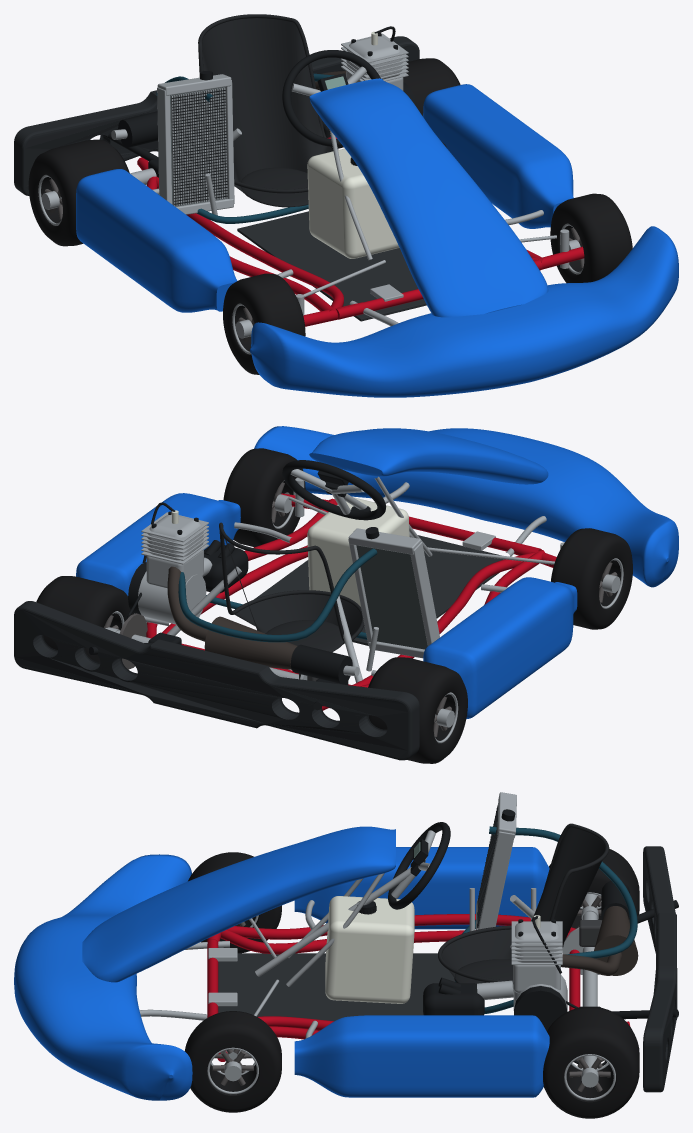
Rendered from kartwerkz-blue-red.glb.
3 views of the same model, one above another, from view 1: azimuth 30°, elevation 25°; view 2: azimuth 150°, elevation 25°; view 3: azimuth 270°, elevation 25° (orthographic).
Visible parts, largest first — view 1: front-bumper, nassau-panel, slick-tyre (×4), sidepod-left, seat-shell, sidepod-right, floor-tray, fuel-tank, rear-bumper, radiator-side-tank (×2), chassis-main--1, seat-base (+10 smaller); view 2: rear-bumper, front-bumper, slick-tyre (×4), sidepod-left, nassau-panel, sidepod-right, radiator-core, fuel-tank, floor-tray, seat-shell, expansion-chamber, coolant-hose-upper (+21 smaller); view 3: front-bumper, sidepod-right, nassau-panel, slick-tyre (×4), floor-tray, fuel-tank, sidepod-left, rear-bumper, seat-shell, chassis-outer--1, airbox, radiator-side-tank (+20 smaller).
Part boxes in pixels (left/top/right/bottom): front-bumper: left=250, top=226, right=678, bottom=397; nassau-panel: left=309, top=78, right=548, bottom=317; slick-tyre (×4): left=28, top=58, right=632, bottom=374; sidepod-left: left=76, top=169, right=237, bottom=312; seat-shell: left=202, top=18, right=333, bottom=194; sidepod-right: left=423, top=84, right=573, bottom=228; floor-tray: left=237, top=211, right=426, bottom=321; fuel-tank: left=307, top=148, right=399, bottom=258; rear-bumper: left=14, top=36, right=419, bottom=195; radiator-side-tank (×2): left=157, top=80, right=234, bottom=203; chassis-main--1: left=137, top=157, right=343, bottom=315; seat-base: left=241, top=167, right=308, bottom=207; rear-bumper: left=14, top=601, right=419, bottom=760; front-bumper: left=254, top=426, right=678, bottom=587; slick-tyre (×4): left=36, top=448, right=632, bottom=763; sidepod-left: left=423, top=577, right=577, bottom=718; nassau-panel: left=309, top=428, right=548, bottom=484; sidepod-right: left=76, top=493, right=240, bottom=595; radiator-core: left=356, top=545, right=427, bottom=649; fuel-tank: left=307, top=497, right=409, bottom=606; floor-tray: left=254, top=535, right=504, bottom=645; seat-shell: left=225, top=539, right=361, bottom=646; expansion-chamber: left=204, top=616, right=297, bottom=669; coolant-hose-upper: left=178, top=548, right=377, bottom=642; front-bumper: left=14, top=854, right=192, bottom=1100; sidepod-right: left=294, top=1015, right=549, bottom=1097; nassau-panel: left=82, top=826, right=395, bottom=982; slick-tyre (×4): left=184, top=849, right=639, bottom=1118; floor-tray: left=218, top=953, right=455, bottom=1030; fuel-tank: left=325, top=896, right=414, bottom=1003; sidepod-left: left=294, top=847, right=549, bottom=929; rear-bumper: left=643, top=846, right=677, bottom=1092; seat-shell: left=442, top=827, right=604, bottom=978; chassis-outer--1: left=228, top=914, right=575, bottom=939; airbox: left=423, top=983, right=484, bottom=1015; radiator-side-tank: left=478, top=831, right=514, bottom=929.
Bounding box in the file's own units: 1.4 × 0.6385 × 1.95.
